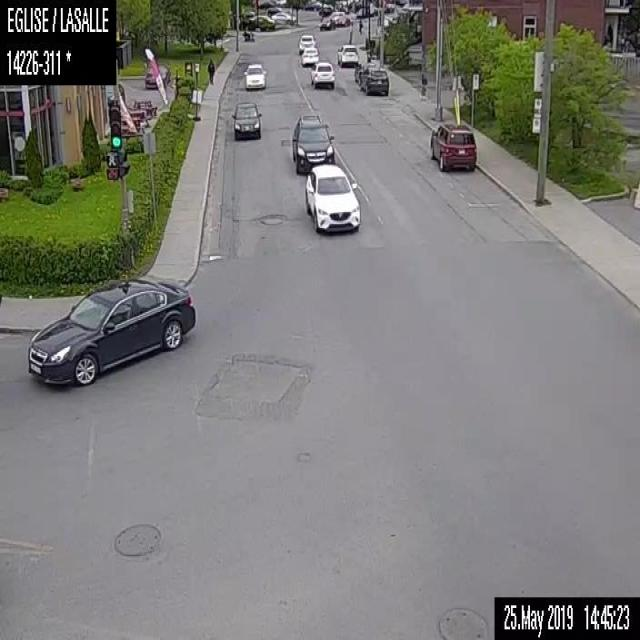pedestrian: (418, 69, 427, 102), (206, 57, 216, 84), (364, 45, 371, 63), (357, 17, 363, 32)
vehicle: (27, 276, 196, 385), (304, 162, 362, 235), (289, 110, 336, 173), (428, 120, 477, 171), (230, 99, 262, 140), (358, 65, 388, 95), (144, 62, 170, 90), (241, 60, 267, 88), (310, 61, 336, 88), (336, 41, 358, 64), (296, 31, 316, 54), (299, 45, 320, 66), (353, 61, 374, 80), (271, 12, 297, 25), (247, 13, 274, 25), (333, 12, 350, 27), (318, 16, 335, 30)
